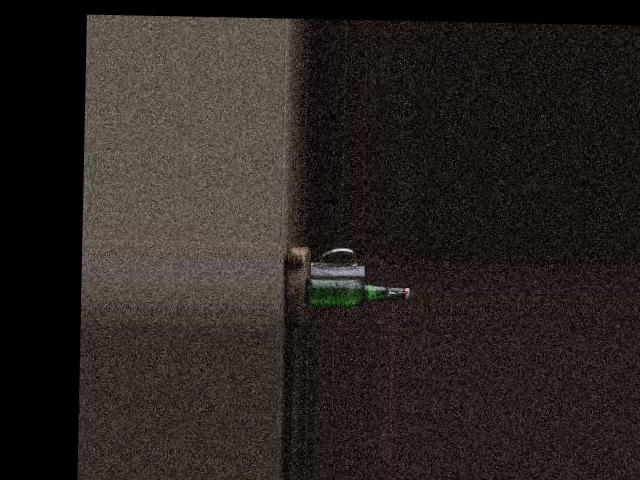beer: (305, 276, 409, 307)
